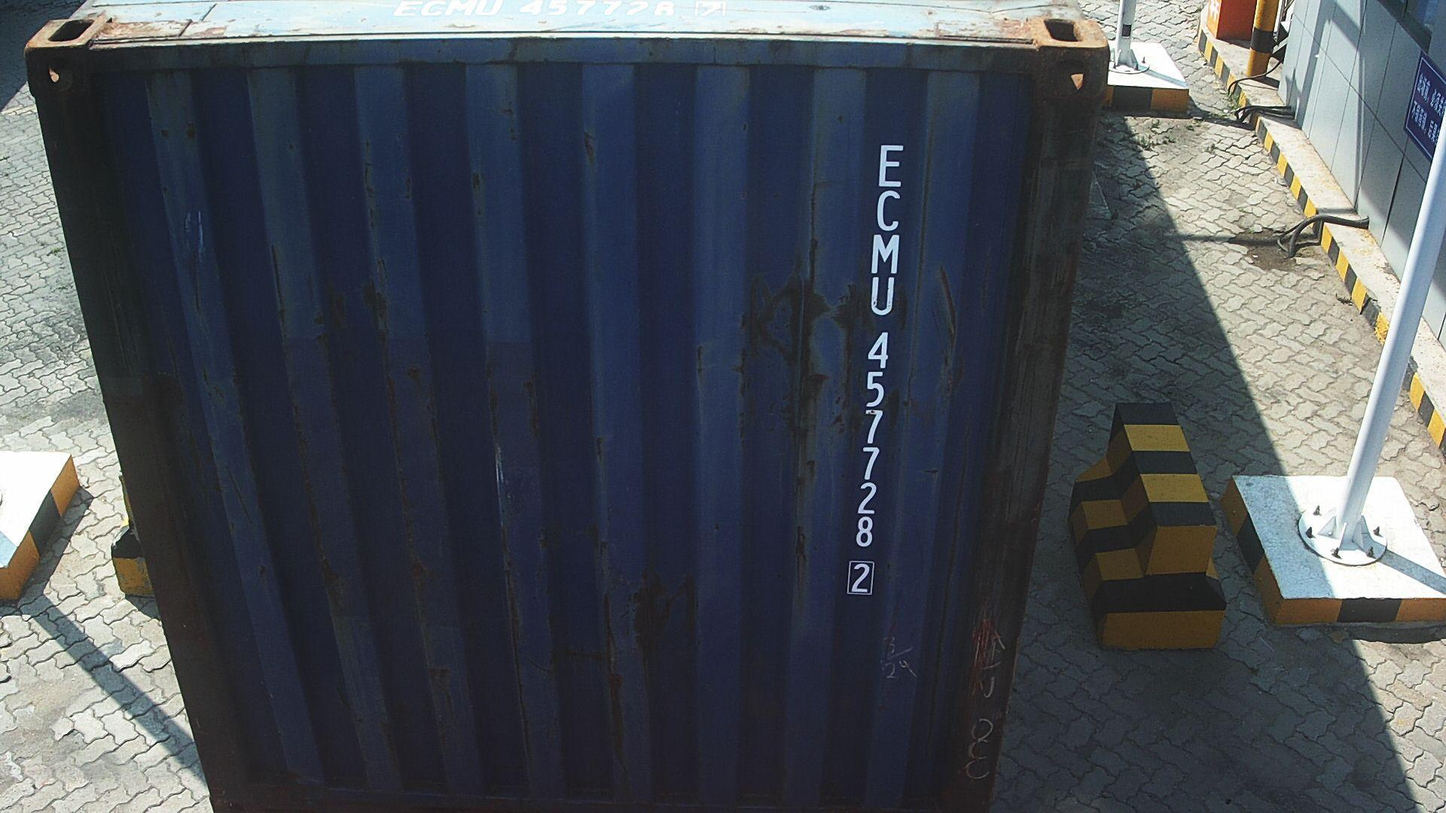container-numbers: (841, 137, 905, 602)
